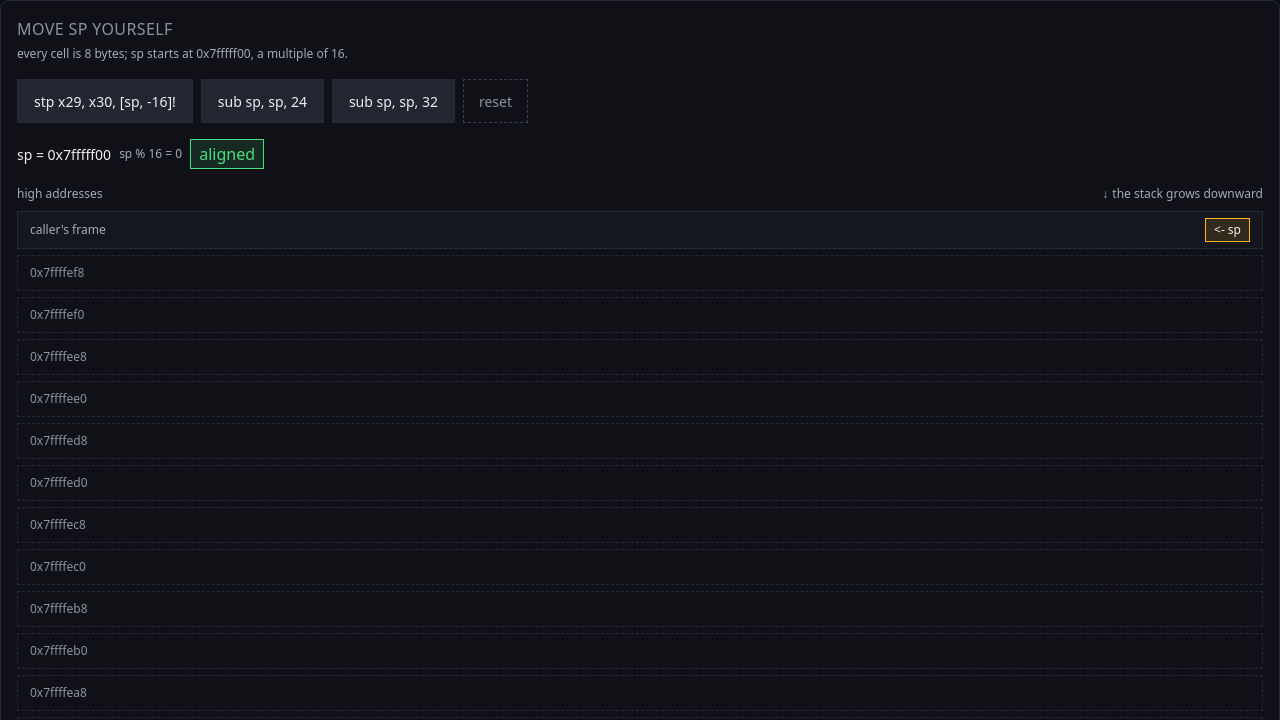
it: StackAlignment › the stp pair preset drops sp 16 bytes and stays aligned
The width and height of the screenshot is (1280, 720).
What coordinates should you click on to do the following:
click the button "stp x29, x30, [sp, -16]!"
I would click on:
 (105, 101)
Its box is [17,79,193,123].
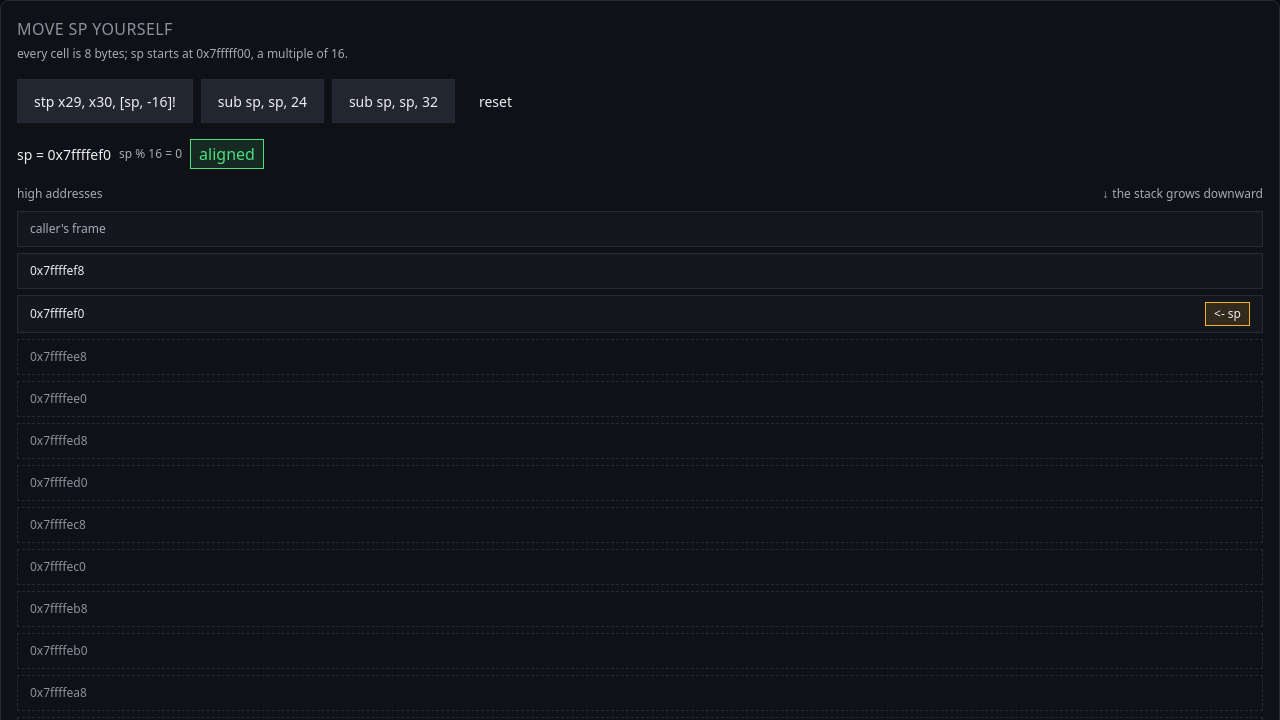
Check: the text "aligned" is shown, box [190,139,264,169]
Check: the text "sp = 0x7ffffef0" is shown, box [17,144,111,164]
Check: the list item with aria-label "0x7ffffef0, inside the new frame" shows "<- sp", box [1214,305,1241,322]
